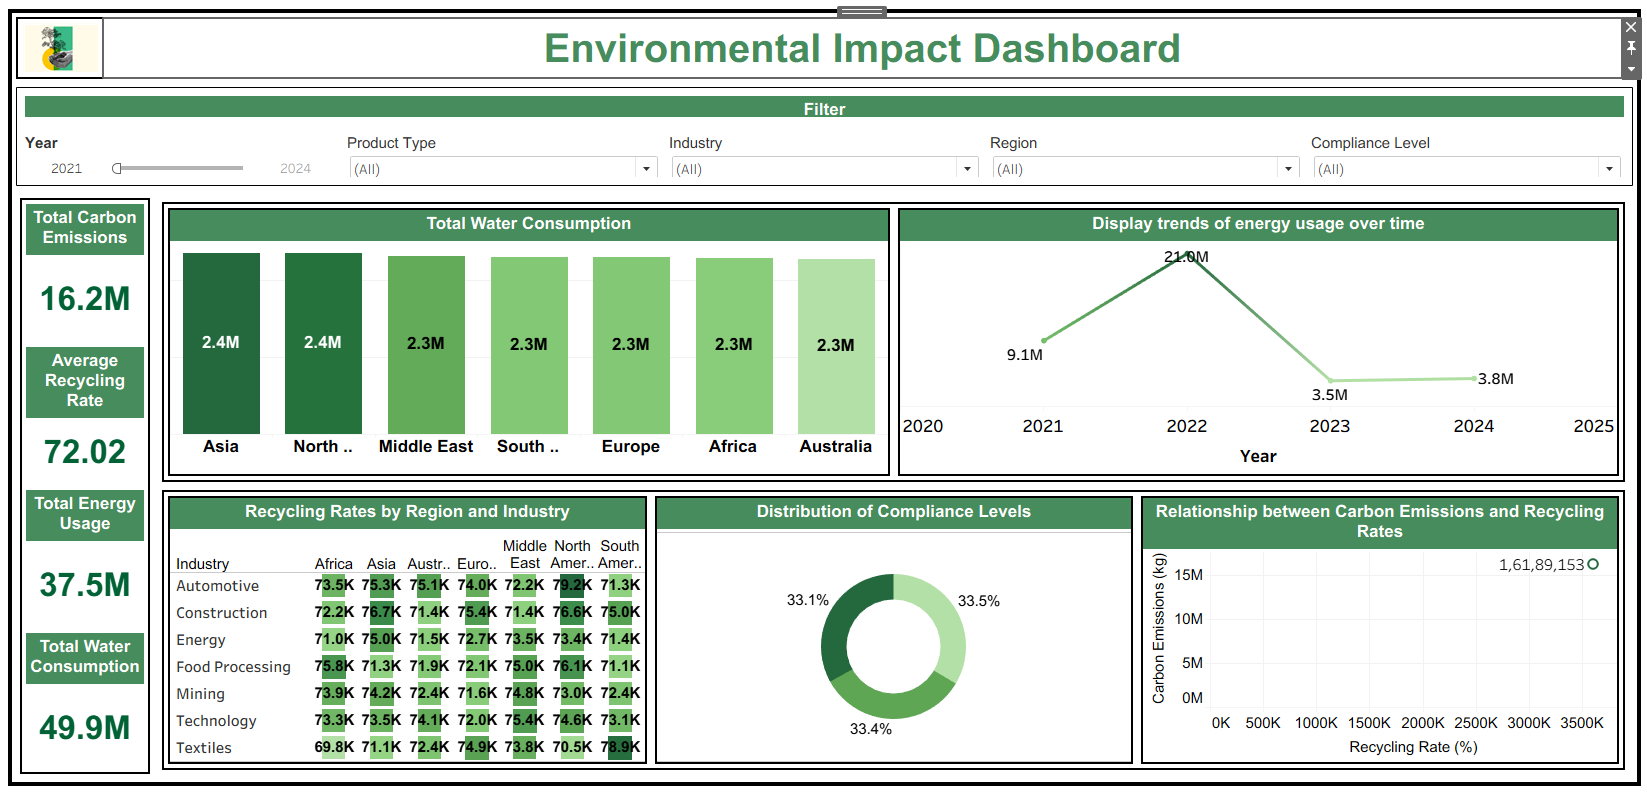

The dashboard page shown, as its layout file describes it:
{"tool":"tableau","page":{"name":"Environmental Impact Dashboard","canvas":[1000,1000],"units":"permille","ordinal":0},"visuals":[{"type":"image","param":"C:/Orginal Datasets/Environmental Impact/Logo.jpg","box":[13.3,27.5,51.9,72.4]},{"type":"text","box":[65.2,27.5,915.5,72.4]},{"type":"worksheet","title":"Filter","mark":"Automatic","box":[15.1,118.6,969.9,36.2]},{"type":"filter","title":"Filter","param":"[federated.09wnhe50apsbvb1axf57x05ps1oo].[none:Year:qk]","box":[15.1,166,194.3,63.7]},{"type":"filter","title":"Filter","param":"[federated.09wnhe50apsbvb1axf57x05ps1oo].[none:Product Type:nk]","box":[209.4,166,194.3,63.7]},{"type":"filter","title":"Filter","param":"[federated.09wnhe50apsbvb1axf57x05ps1oo].[none:Industry:nk]","box":[403.7,166,193.7,63.7]},{"type":"filter","title":"Filter","param":"[federated.09wnhe50apsbvb1axf57x05ps1oo].[none:Region:nk]","box":[597.5,166,193.7,63.7]},{"type":"filter","title":"Filter","param":"[federated.09wnhe50apsbvb1axf57x05ps1oo].[none:Compliance Level:nk]","box":[791.2,166,193.7,63.7]},{"type":"worksheet","title":"Total Carbon Emissions","mark":"Automatic","box":[15.7,253.4,76,178.5]},{"type":"worksheet","title":"carbon emissions by region","mark":"Automatic","rows":["Carbon Emissions (kg)"],"cols":["Region"],"box":[101.4,258.4,440.6,344.6]},{"type":"worksheet","title":"Display trends of energy usage over time","mark":"Automatic","rows":["Energy Usage (kWh)"],"cols":["Year"],"box":[541.9,258.4,439.9,344.6]},{"type":"worksheet","title":"Average Recycling Rate","mark":"Automatic","box":[15.7,432,76,178.5]},{"type":"worksheet","title":"Total Energy Usage","mark":"Automatic","box":[15.7,610.5,76,178.5]},{"type":"worksheet","title":"Recycling Rates by Region and Industry","mark":"Automatic","rows":["Industry"],"cols":["Region"],"box":[101.4,618,293.9,344.6]},{"type":"worksheet","title":"Distribution of Compliance Levels","mark":"Pie","rows":["Calculation_904097689576595456","Calculation_904097689576595456"],"box":[395.3,618,293.3,344.6]},{"type":"worksheet","title":"Relationship between Carbon Emissions and Recycling Rates","mark":"Automatic","rows":["Carbon Emissions (kg)"],"cols":["Recycling Rate (%)"],"box":[688.6,618,293.3,344.6]},{"type":"worksheet","title":"Total Water Consumption","mark":"Automatic","box":[15.7,789,76,178.5]}]}

Visuals, with their boxes on the dashboard's canvas, which has no fixed pixel size, in thousandths of its width and height (x1, y1, x2, y2). These are canvas units, not pixel positions in the 1647x792 screenshot, which may show the page scaled, cropped or inside an application window:
image: locate(13, 28, 65, 100)
text: locate(65, 28, 981, 100)
"Filter" worksheet: locate(15, 119, 985, 155)
"Filter" filter: locate(15, 166, 209, 230)
"Filter" filter: locate(209, 166, 404, 230)
"Filter" filter: locate(404, 166, 597, 230)
"Filter" filter: locate(598, 166, 791, 230)
"Filter" filter: locate(791, 166, 985, 230)
"Total Carbon Emissions" worksheet: locate(16, 253, 92, 432)
"carbon emissions by region" worksheet: locate(101, 258, 542, 603)
"Display trends of energy usage over time" worksheet: locate(542, 258, 982, 603)
"Average Recycling Rate" worksheet: locate(16, 432, 92, 610)
"Total Energy Usage" worksheet: locate(16, 610, 92, 789)
"Recycling Rates by Region and Industry" worksheet: locate(101, 618, 395, 963)
"Distribution of Compliance Levels" worksheet (Pie marks): locate(395, 618, 689, 963)
"Relationship between Carbon Emissions and Recycling Rates" worksheet: locate(689, 618, 982, 963)
"Total Water Consumption" worksheet: locate(16, 789, 92, 968)
